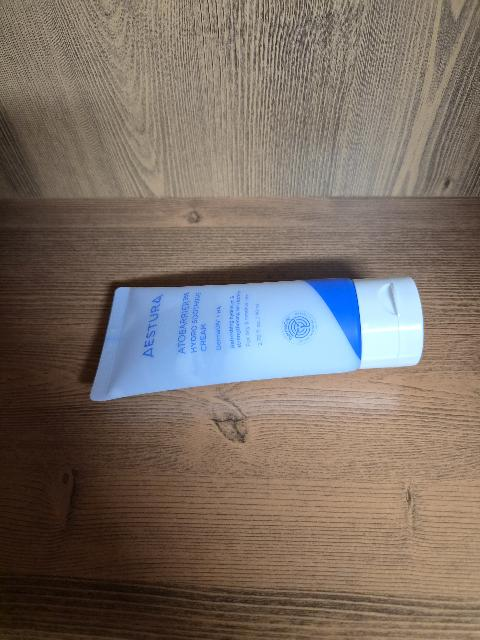handcream: (90, 276, 424, 401)
